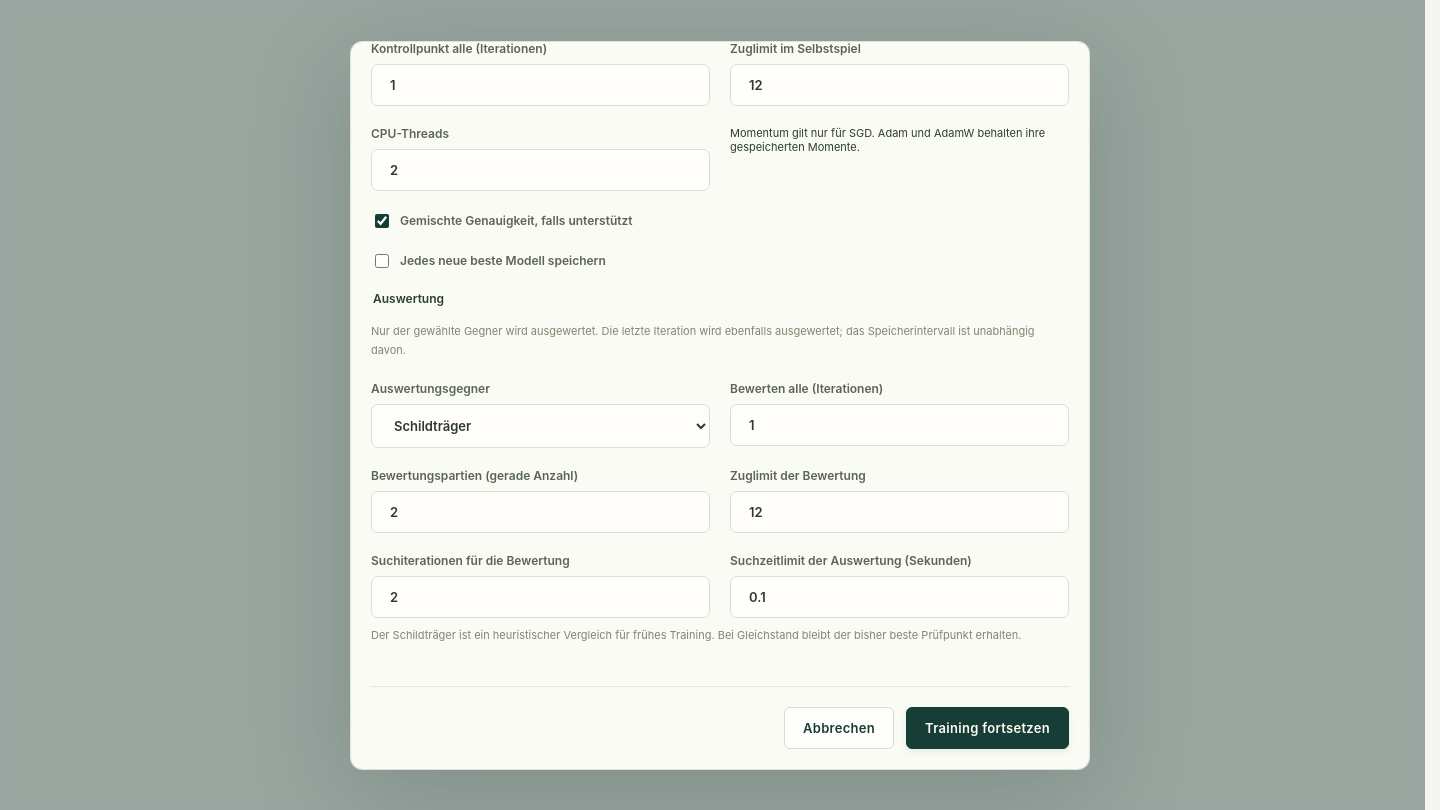
Test case: localizes conditional evaluation and promotion settings in German
(page scrolled)
Select "Champion" in the dropdown labelled "Auswertungsgegner" at (540, 426), box [371,404,710,448]
(page scrolled)
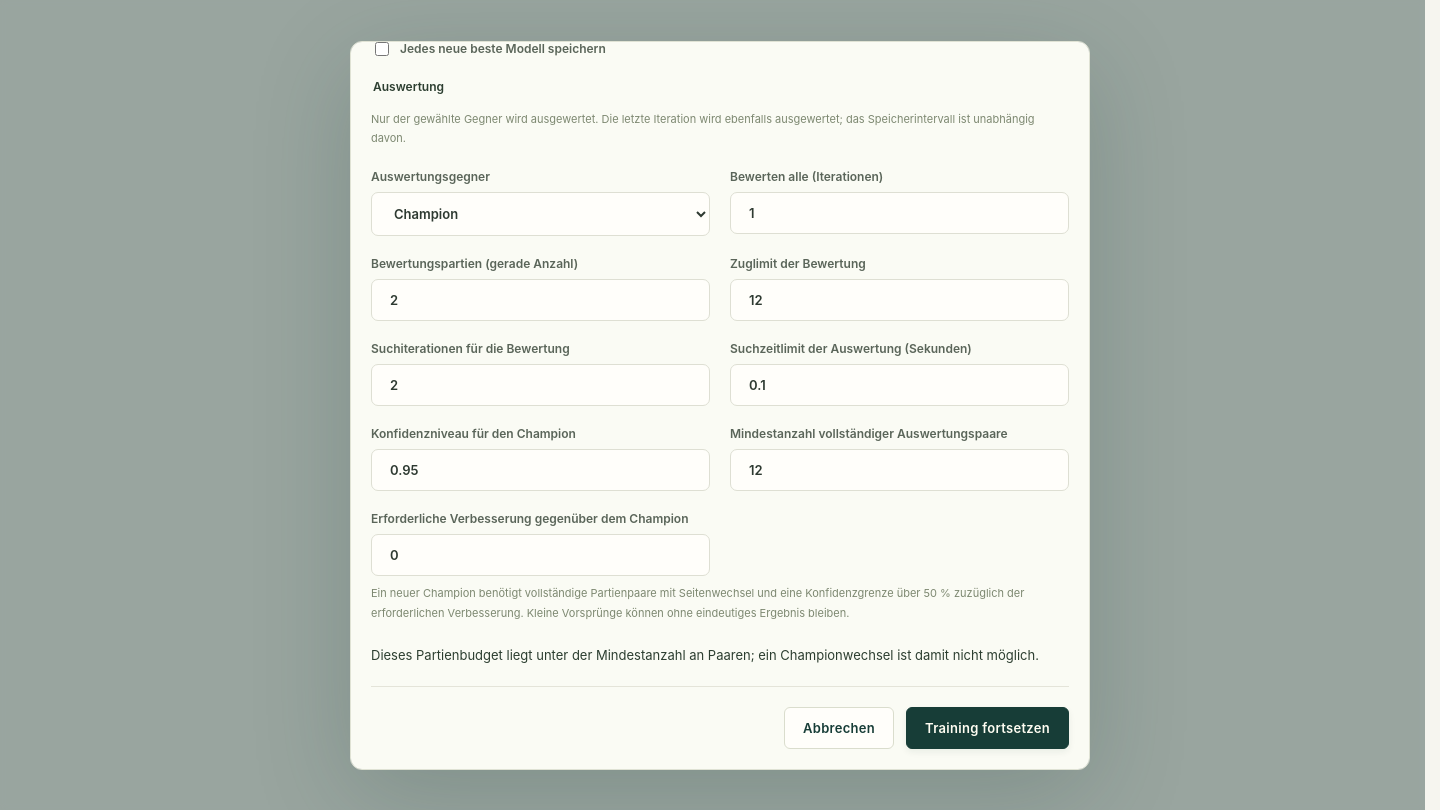
Check: the number field labelled "Konfidenzniveau für den Champion" holds "0.95", box [371,449,710,491]
Check: the number field labelled "Mindestanzahl vollständiger Auswertungspaare" holds "12", box [730,449,1069,491]
Check: the message shows "Dieses Partienbudget", box [371,647,1039,663]
